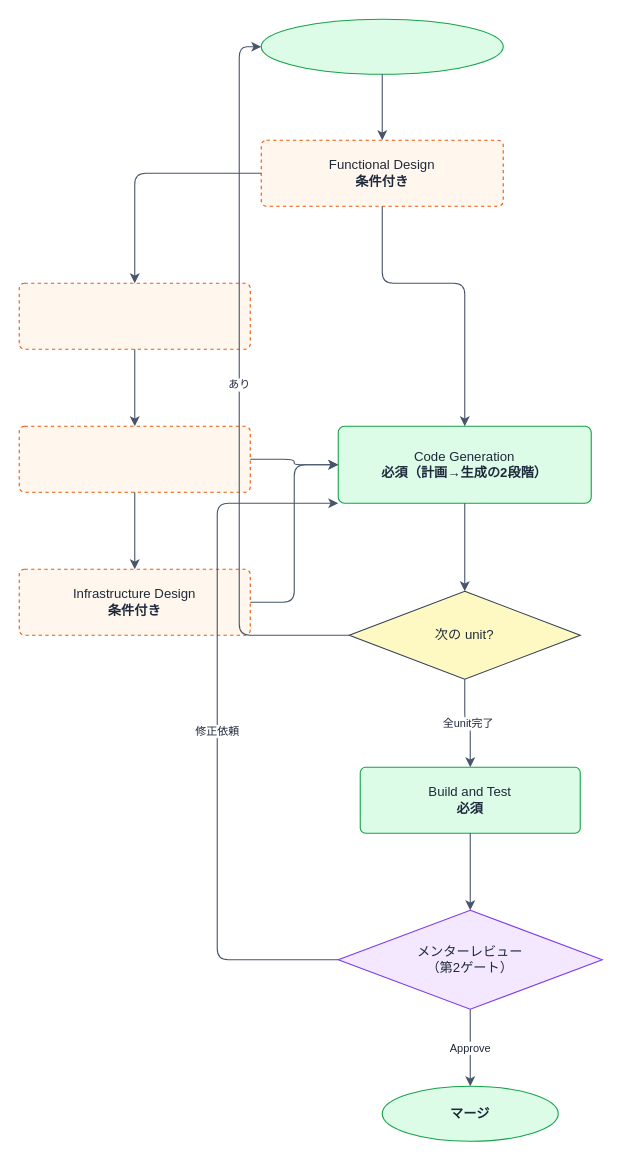
Image size: 622x1161. Some labels were removed from this diagram. Here are the shapes that lost their labels. From the top down, the centre of each, then its label:
At (381,46): "各 unit of work".
At (134,315): "NFR Requirements 条件付き".
At (134,458): "NFR Design 条件付き".
